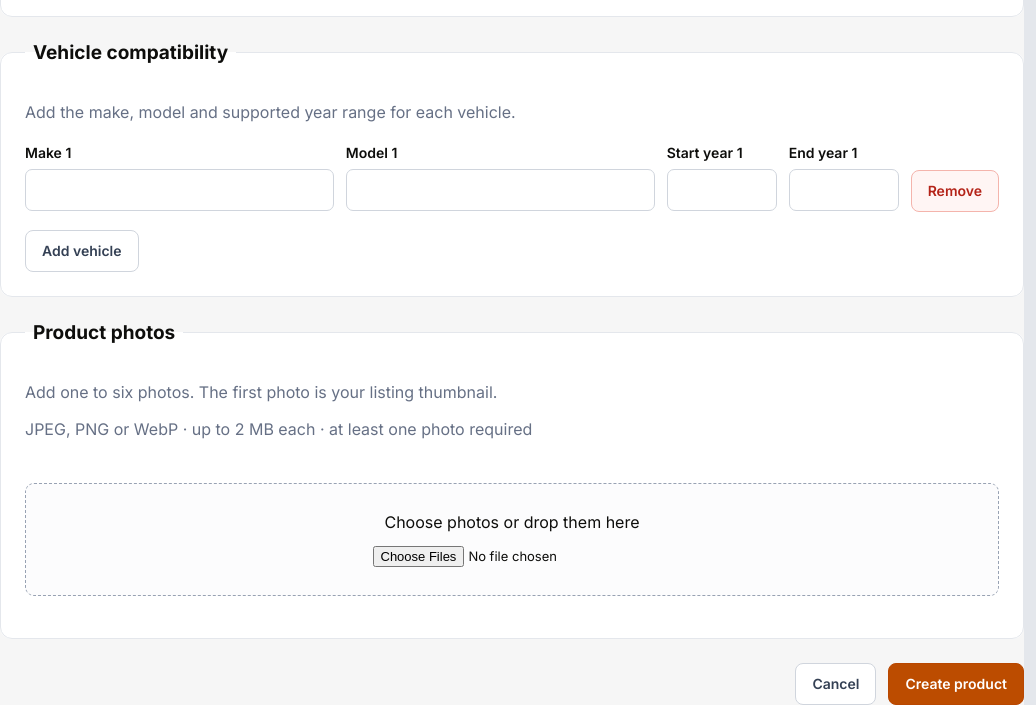
Scenario: shared product form › blocks invalid submission and shows field errors
(page scrolled)
Step 1. Click the button "Create product" → (956, 684), box [888,663,1024,704]
(page scrolled)
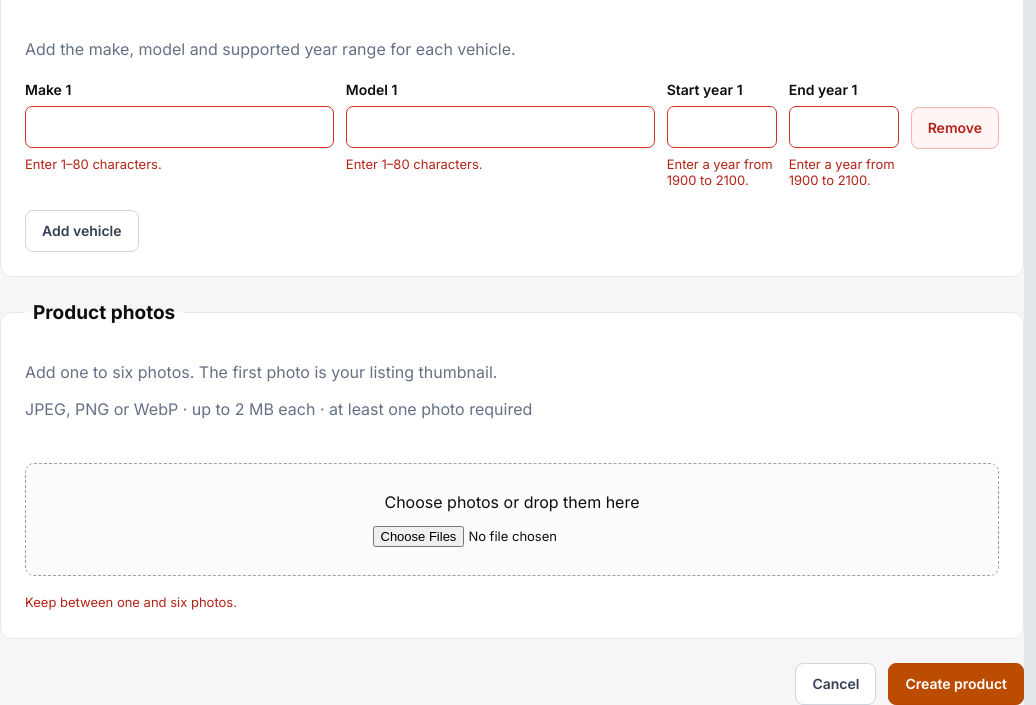
Expected: the text "Keep between one and six photos." is shown, [25,594,237,610]
